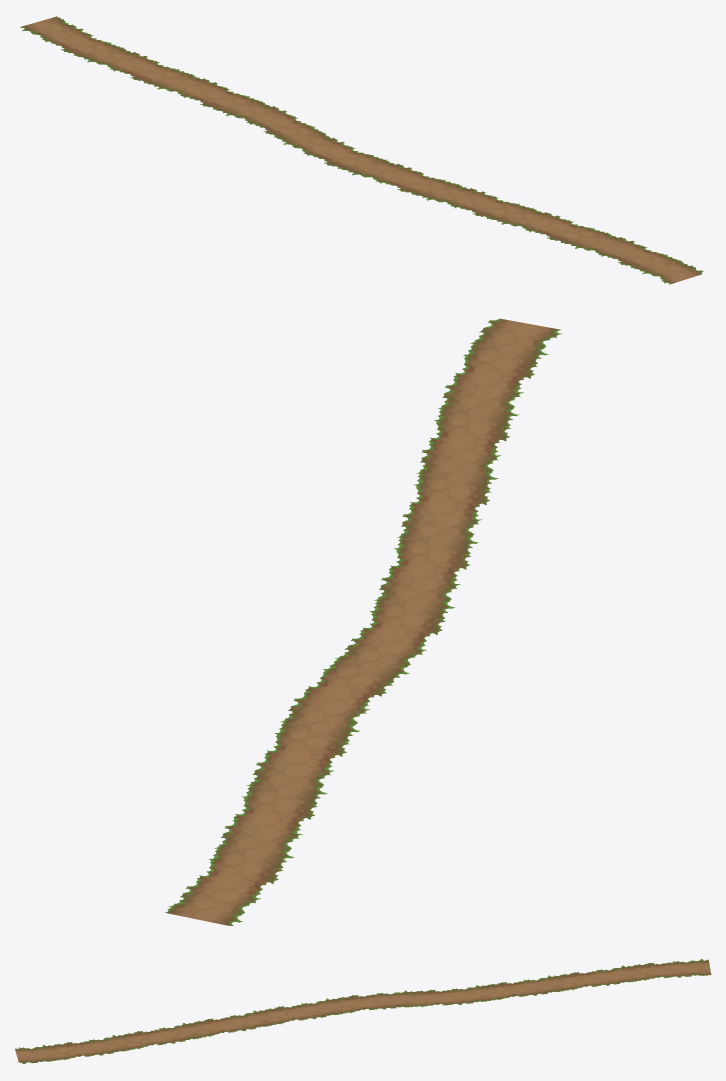
File: BeachRoad_baked.fbx
3 renders of one model, top to bottom at view 1: azimuth 30°, elevation 25°; view 2: azimuth 150°, elevation 25°; view 3: azimuth 270°, elevation 25°, orthographic. The views are drawn at different scales.
Visible parts, largest first — view 1: BeachRoad_baked; view 2: BeachRoad_baked; view 3: BeachRoad_baked.
Boxes of the visible parts, left/top/right/bottom form: BeachRoad_baked: left=20, top=16, right=703, bottom=284; BeachRoad_baked: left=165, top=318, right=562, bottom=925; BeachRoad_baked: left=15, top=959, right=711, bottom=1063.
Bounding box in the file's own units: 10.24 × 0 × 27.67.
